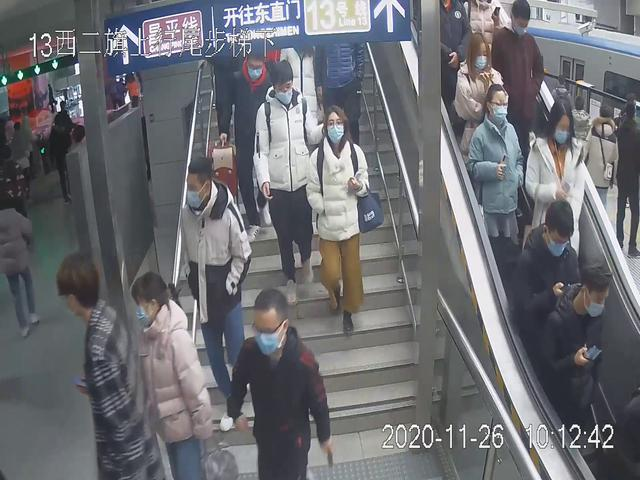person: (172, 155, 259, 437), (54, 252, 161, 480), (222, 286, 336, 480), (250, 58, 337, 307), (129, 266, 223, 480), (302, 104, 385, 335), (536, 266, 625, 474), (521, 89, 593, 302), (467, 83, 525, 281), (489, 1, 548, 161)
